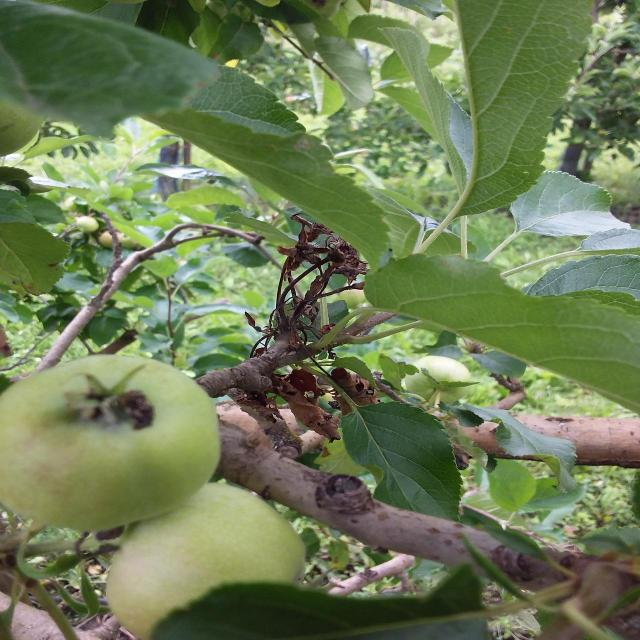-FireBlight-: (245, 208, 393, 449)
